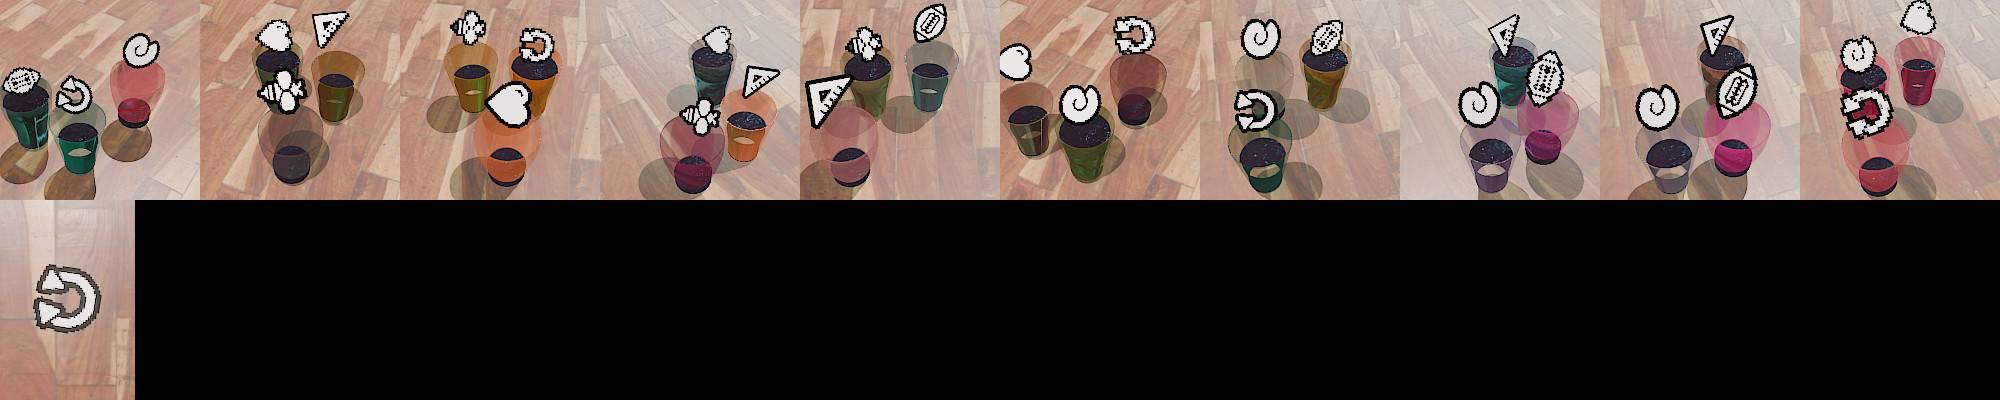icon: (32, 262, 103, 332), (1841, 87, 1894, 140), (805, 73, 853, 129), (258, 68, 310, 115), (482, 82, 534, 127), (1714, 64, 1758, 118), (1526, 48, 1565, 107), (1634, 83, 1680, 131), (1235, 87, 1279, 132), (1458, 80, 1500, 129), (1059, 83, 1102, 125), (677, 96, 722, 136), (1112, 15, 1156, 56), (1240, 18, 1281, 60), (1699, 15, 1735, 60), (1487, 13, 1520, 60), (55, 74, 93, 115), (844, 24, 884, 62), (912, 3, 948, 45), (517, 27, 556, 64), (311, 10, 348, 50), (121, 32, 161, 69), (255, 19, 297, 54), (742, 64, 782, 99), (450, 9, 487, 46), (1841, 36, 1876, 73), (1899, 1, 1936, 37), (1310, 18, 1344, 56), (1000, 42, 1033, 82), (3, 68, 43, 97), (702, 24, 732, 56)
